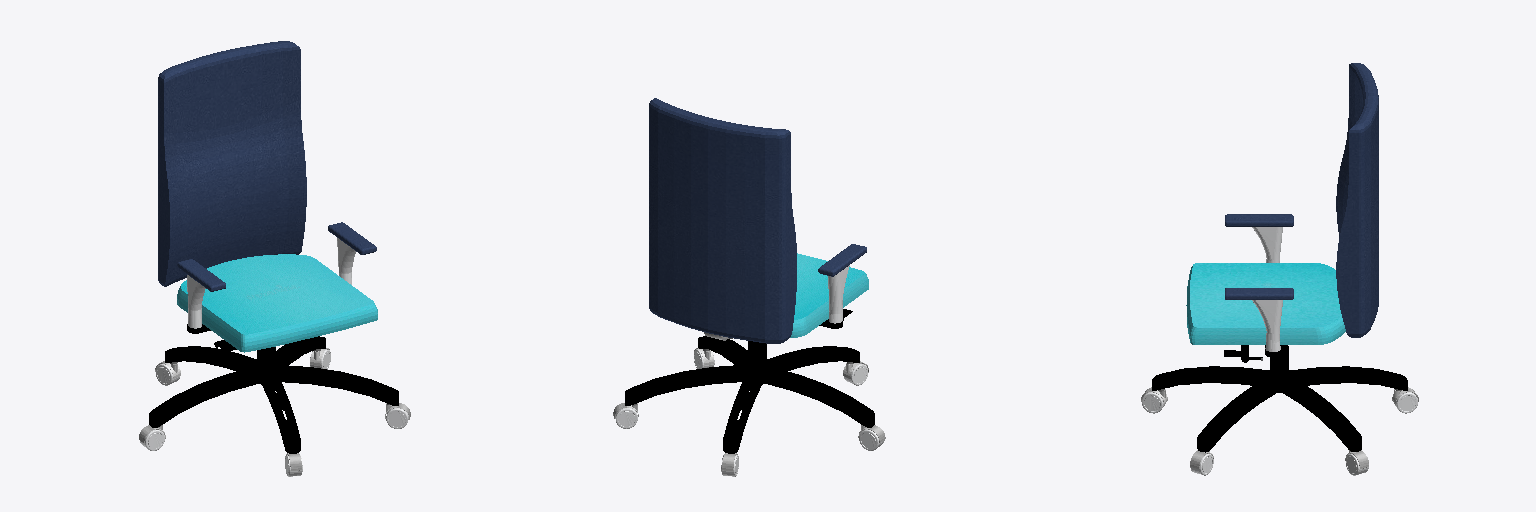
The picture shows the model from 3 angles: view 1: azimuth 30°, elevation 25°; view 2: azimuth 150°, elevation 25°; view 3: azimuth 270°, elevation 25°; orthographic projection.
Parts seen in each view (by area): view 1: polySurface67; view 2: polySurface67; view 3: polySurface67.
Boxes of the visible parts, x1,y1,x2,y2 form: polySurface67: [139, 41, 410, 476]; polySurface67: [613, 98, 885, 476]; polySurface67: [1141, 63, 1418, 475].
Size of the model in its own units: 1.38 by 1.92 by 1.45.
6 materials, 4 textured.